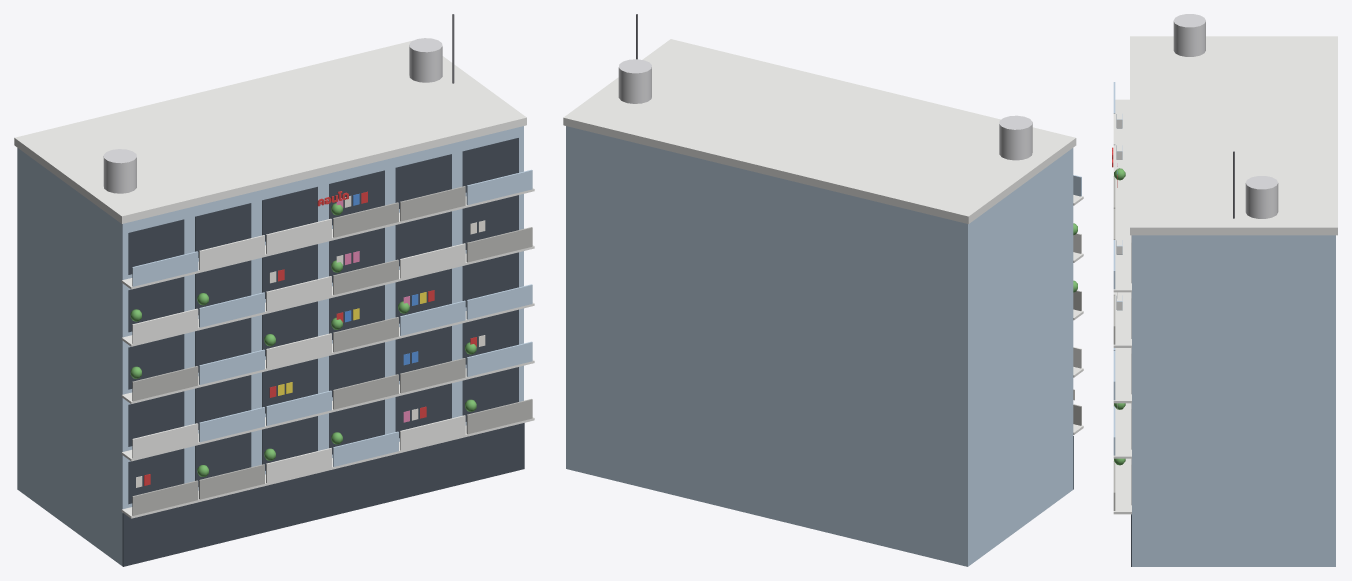
The model's file is SM_Condo_B.fbx.
3 views of the same model, side by side, from view 1: azimuth 30°, elevation 25°; view 2: azimuth 150°, elevation 25°; view 3: azimuth 270°, elevation 25° (orthographic). The views are drawn at different scales.
Visible parts, largest first — view 1: SM_Condo_B; view 2: SM_Condo_B; view 3: SM_Condo_B.
Part boxes in pixels (x1,y1,x2,y2): SM_Condo_B: (14, 14, 534, 566); SM_Condo_B: (563, 14, 1083, 566); SM_Condo_B: (1112, 14, 1337, 566).
Size of the model in its own units: 22.2 by 22 by 11.08.
